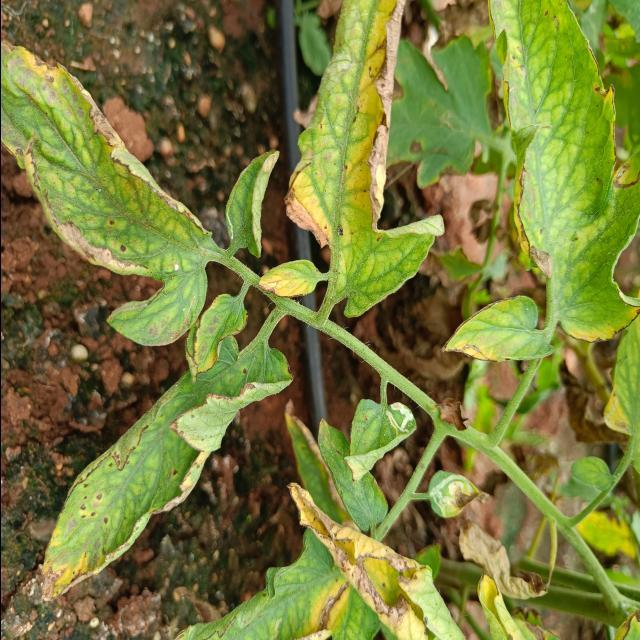Tomato mosaic virus leaf: (32, 328, 296, 604), (484, 0, 640, 348), (0, 34, 208, 274), (281, 0, 406, 248), (282, 470, 464, 640), (256, 252, 322, 304)
